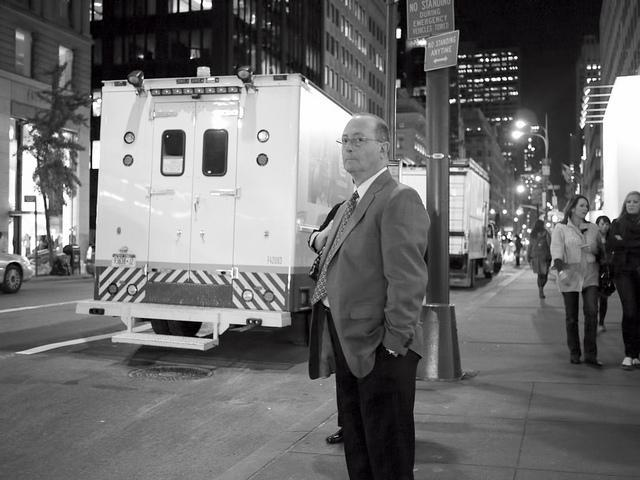car: (0, 251, 33, 292)
truck: (78, 59, 356, 355), (386, 158, 492, 288)
